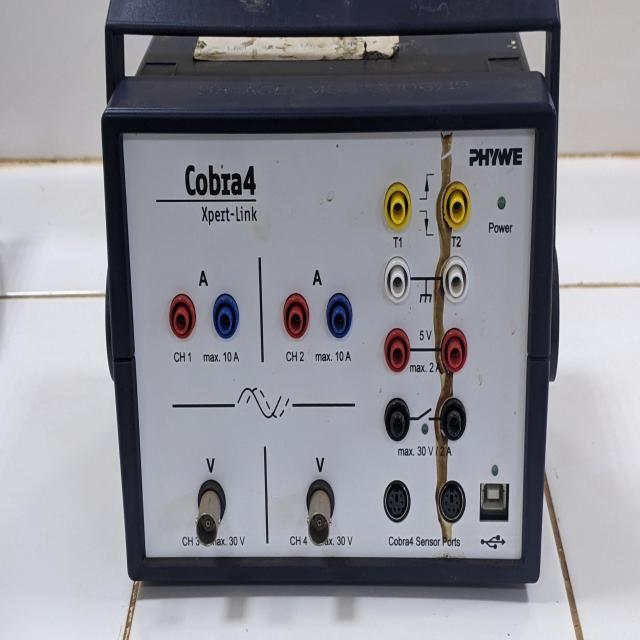Power Supply of Speed of Light Demo: (91, 30, 589, 598)
